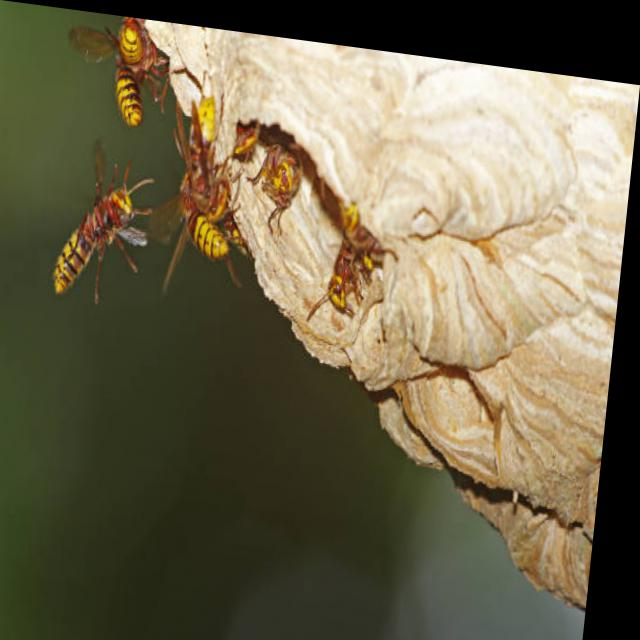Vespa Crabro: (47, 127, 171, 306), (151, 151, 257, 301), (64, 8, 181, 120), (327, 192, 407, 311), (175, 63, 236, 199), (256, 122, 321, 239)
